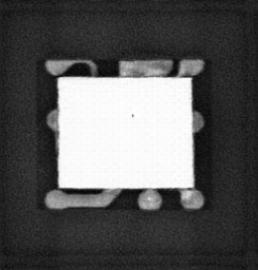DIE_INK: (130, 111, 136, 118)
